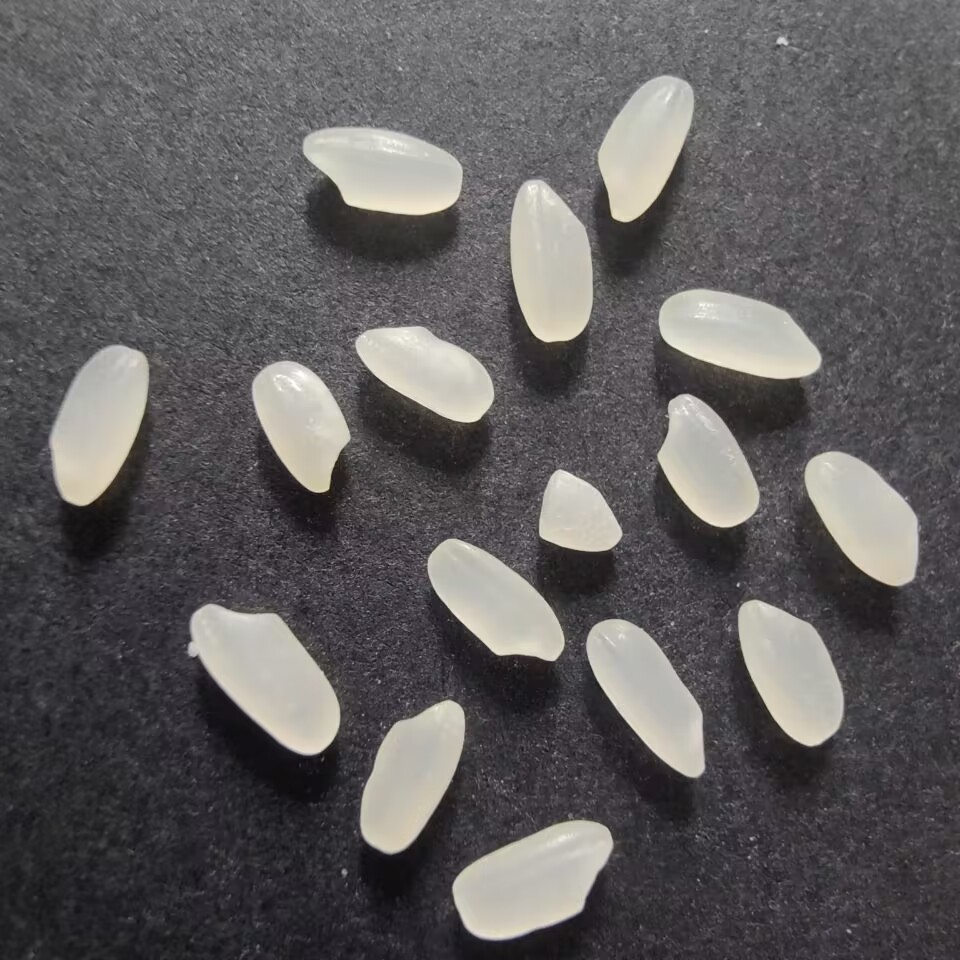broken: (533, 466, 622, 559)
rice: (186, 597, 344, 765), (450, 815, 623, 944), (582, 615, 710, 783), (351, 694, 471, 856), (41, 341, 153, 514), (427, 533, 570, 668), (734, 596, 850, 748), (801, 449, 925, 591), (656, 282, 829, 383), (594, 69, 701, 228), (298, 122, 472, 217), (653, 392, 767, 534), (505, 174, 597, 349), (353, 324, 499, 425), (250, 358, 356, 497)
